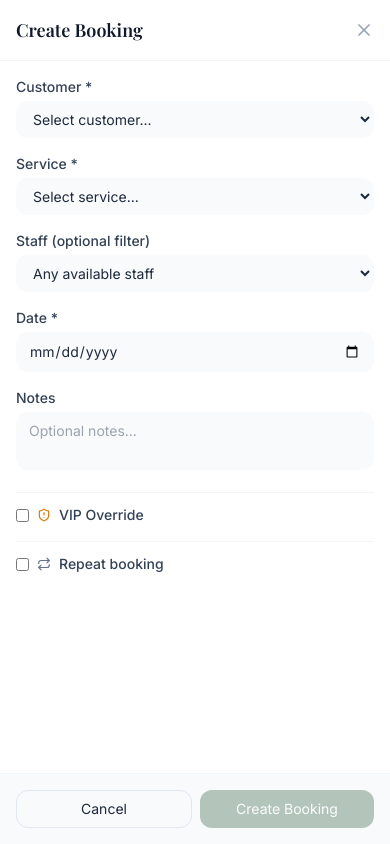
BookingFormModal — VIP Override › hides warning and reason when VIP Override is unchecked
Step 1. Click the checkbox labelled "VIP Override" → x=22, y=515, box x1=16 y1=508 x2=29 y2=522
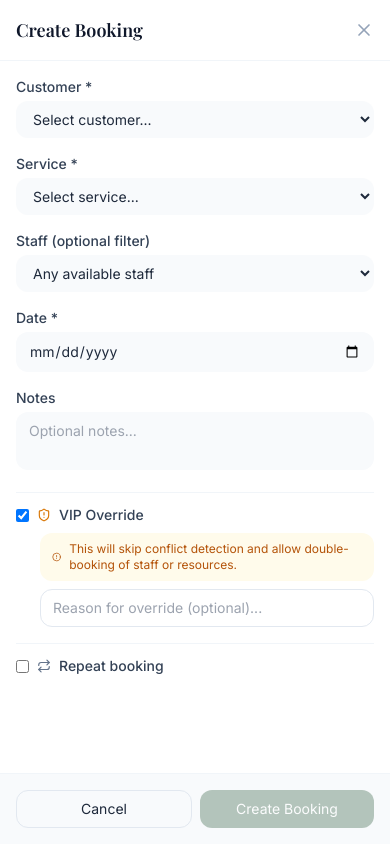
Step 2. Click the checkbox labelled "VIP Override" → x=22, y=515, box x1=16 y1=508 x2=29 y2=522
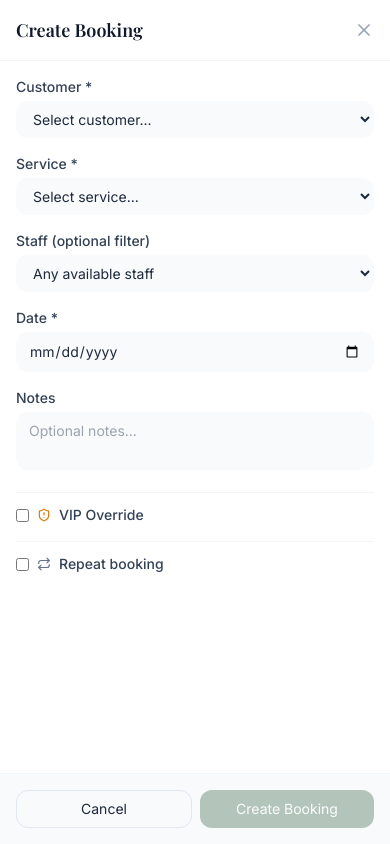
Expected: the field with placeholder "Reason for override" is not shown
Now the text "skip conflict detection and allow double-booking" is gone
